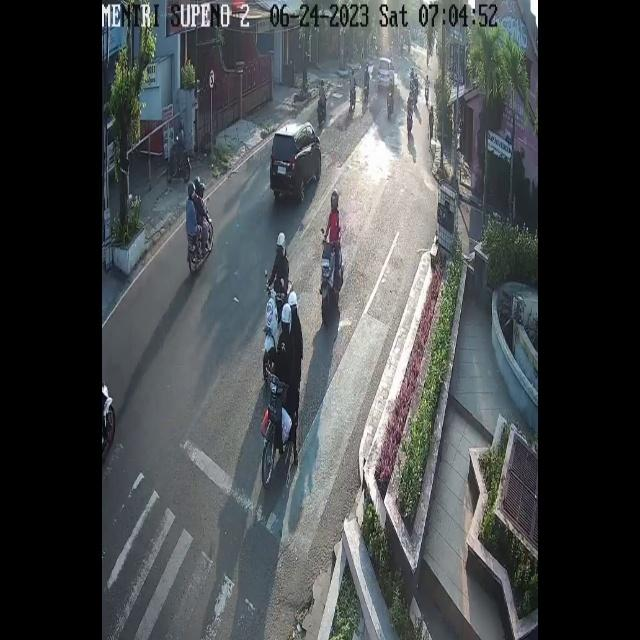bus: (262, 369, 284, 486), (264, 278, 292, 360), (322, 230, 344, 318), (189, 205, 214, 268), (317, 95, 327, 126), (386, 88, 394, 118), (407, 109, 413, 137), (363, 79, 370, 100), (351, 85, 357, 109), (425, 85, 430, 106)
motorcycle: (270, 121, 322, 203), (376, 55, 394, 89)
